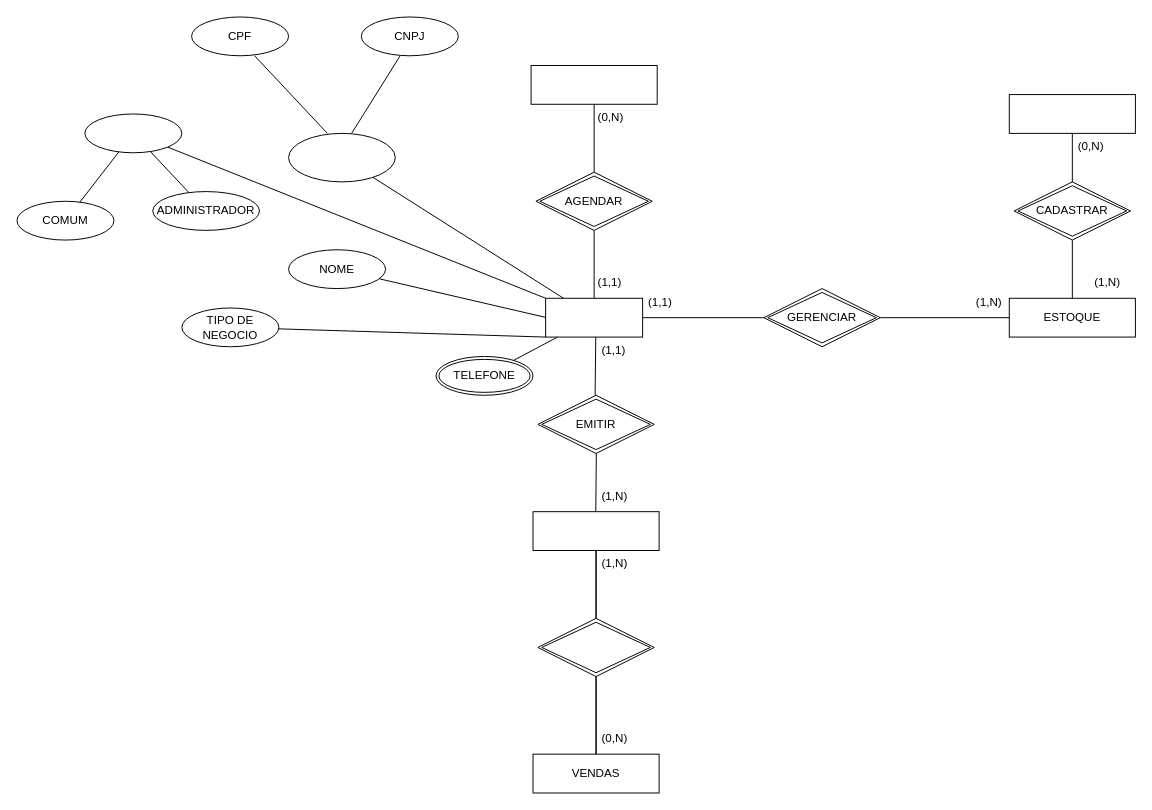
The diagram is 1152 pixels wide and 810 high, and some of its shapes have lost their labels. The shapes that lost their labels are listed below. From the top down, each one's box as (x1, y1, x2, y2) in pixels, then its label:
(530, 65, 657, 104): ATENDIMENTOS
(84, 113, 182, 153): TIPO DE USUÁRIO
(1008, 94, 1135, 133): PRODUTOS
(288, 132, 395, 182): TIPO DE IDENTIFICAÇÃO
(545, 297, 643, 337): USUÁRIO
(532, 511, 659, 550): RELATÓRIOS
(537, 617, 654, 677): VISUALIZAR
